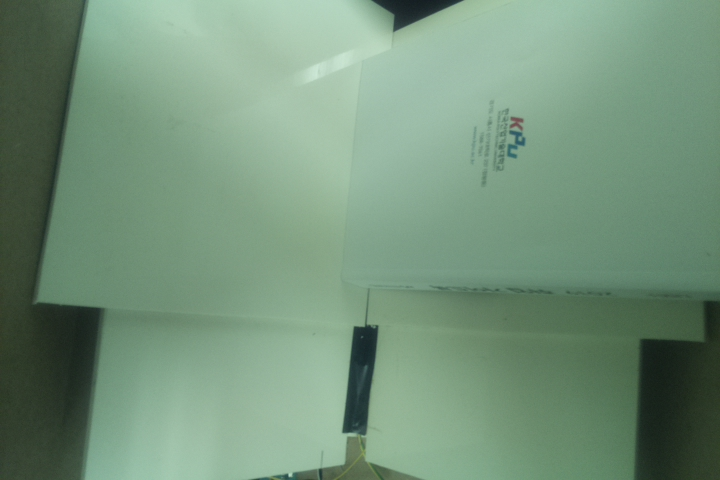book: (337, 1, 719, 305)
